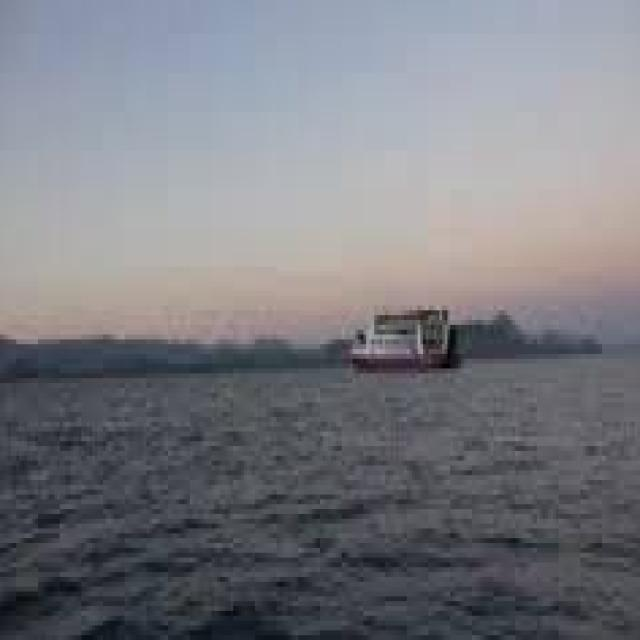houseboat: (342, 275, 454, 374)
